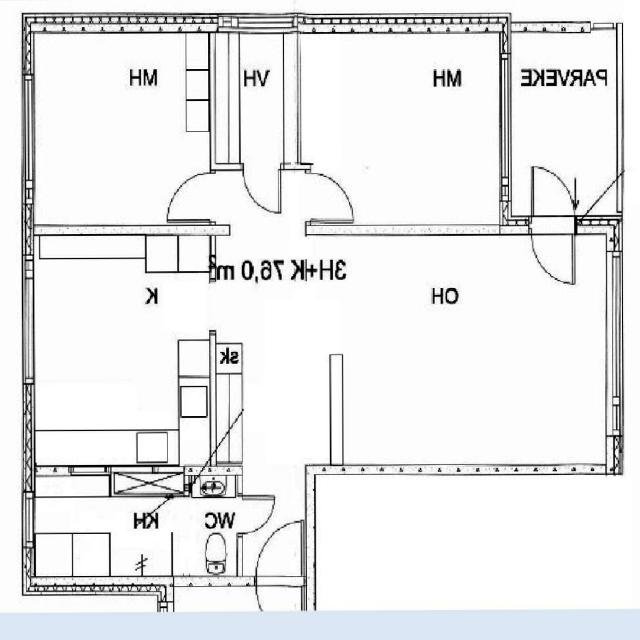door: (532, 167, 575, 235), (532, 216, 575, 284), (256, 576, 302, 638), (256, 524, 302, 586), (168, 174, 216, 221), (307, 173, 354, 221), (243, 162, 280, 212), (238, 496, 275, 532)
